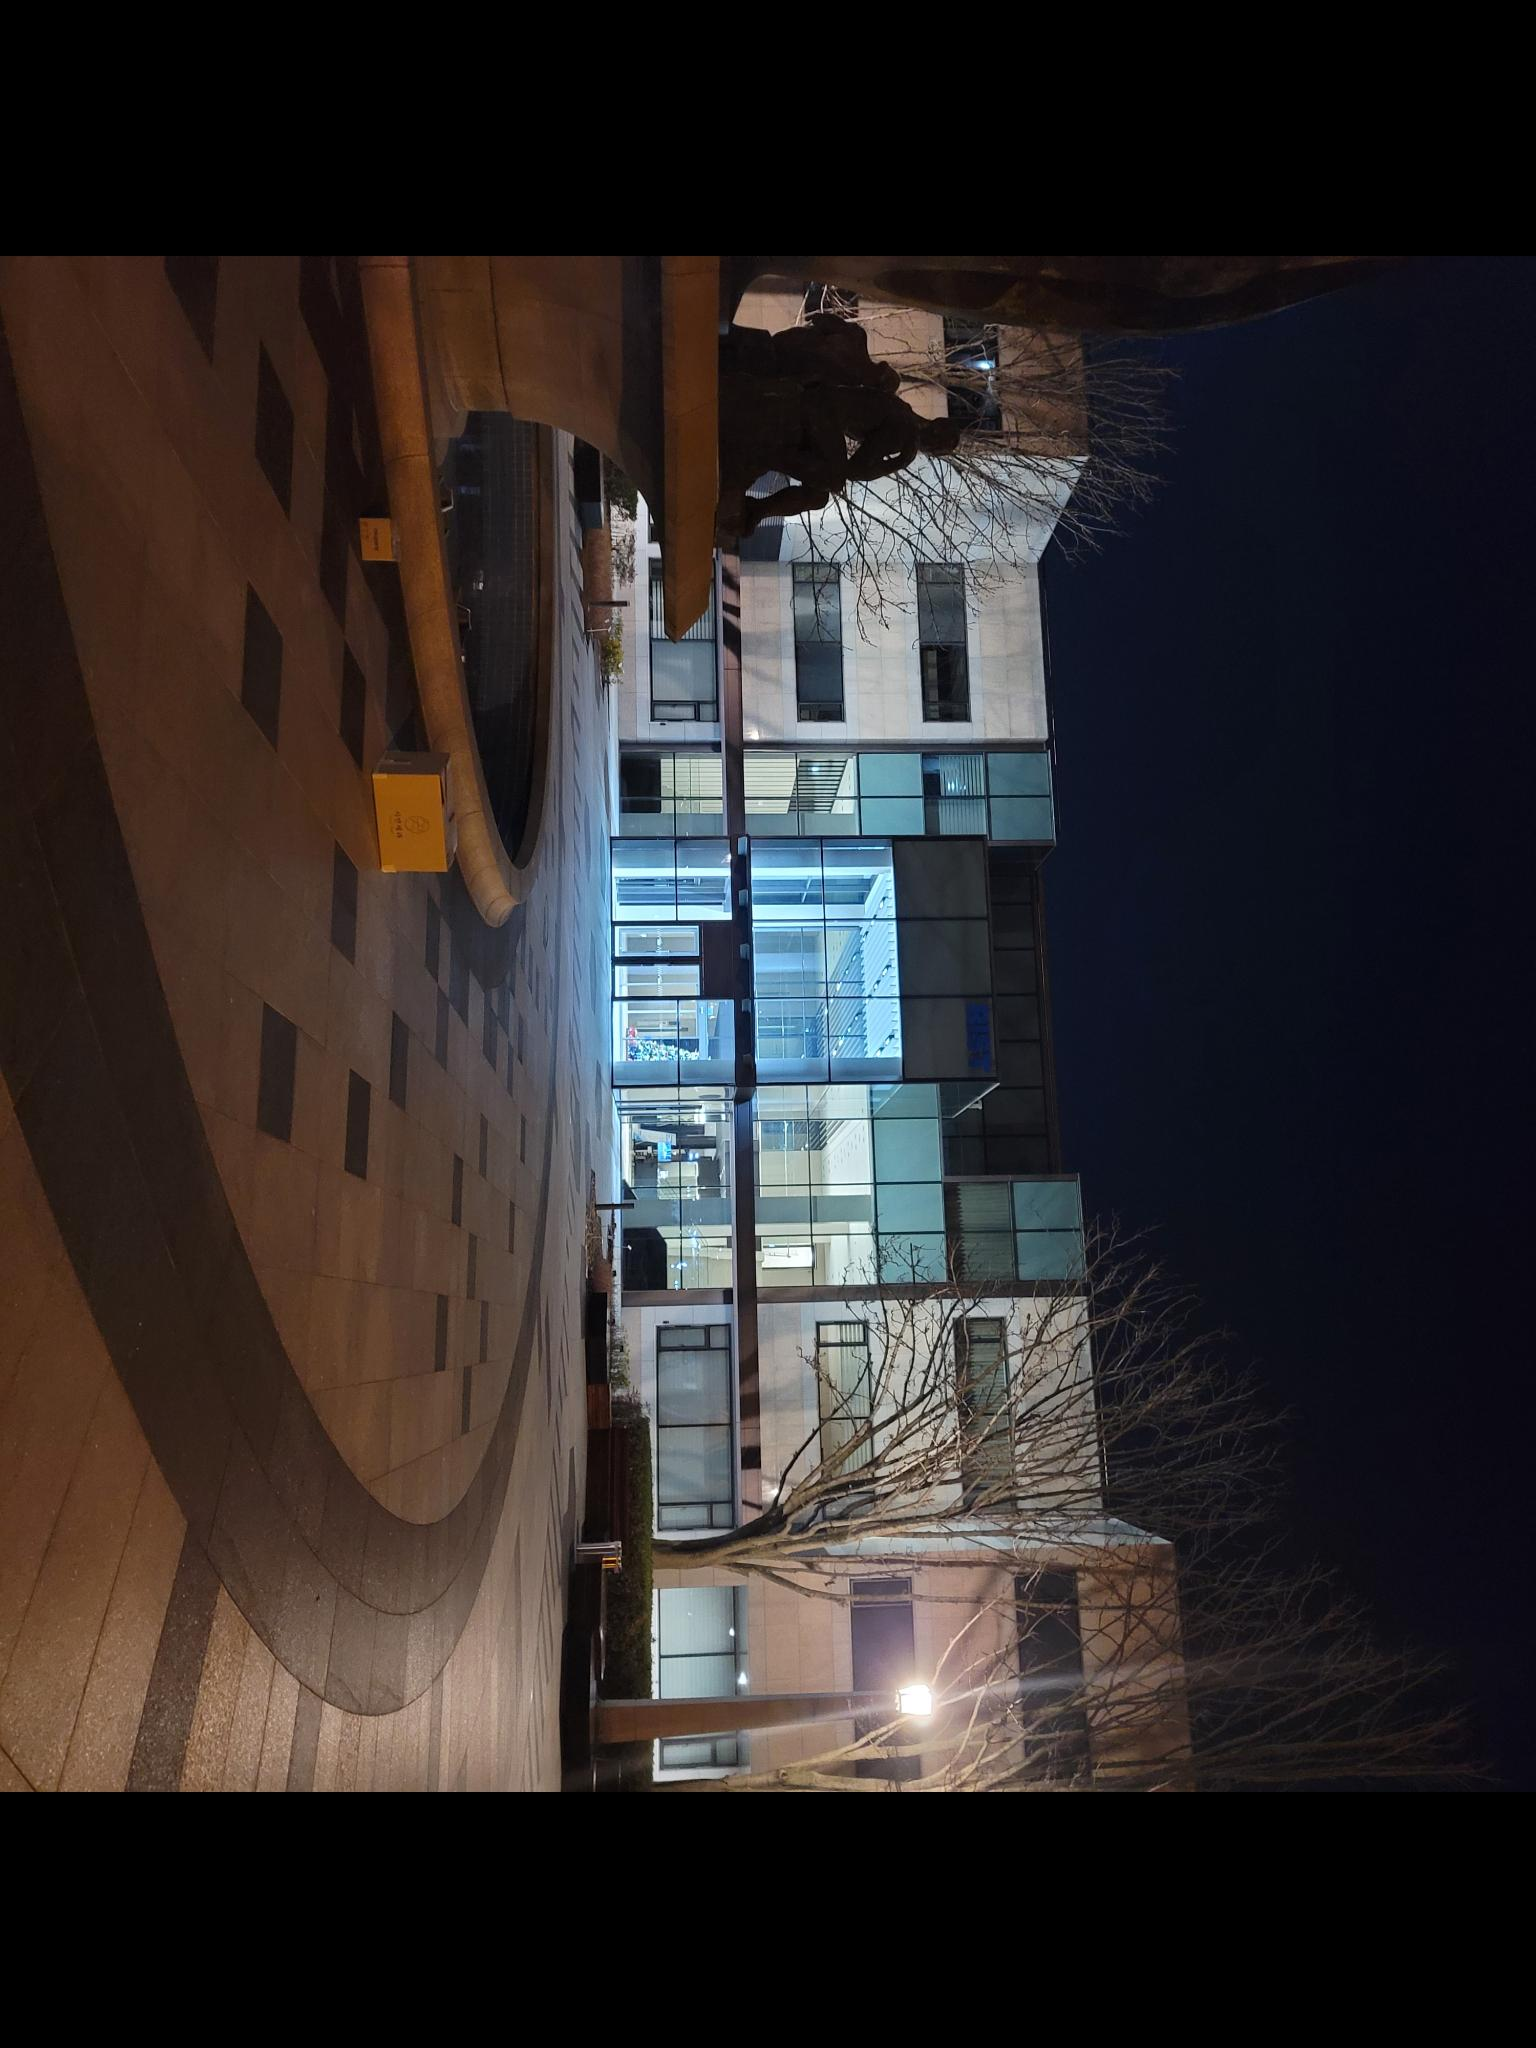Box: (352, 743, 471, 901), (344, 505, 415, 576)
